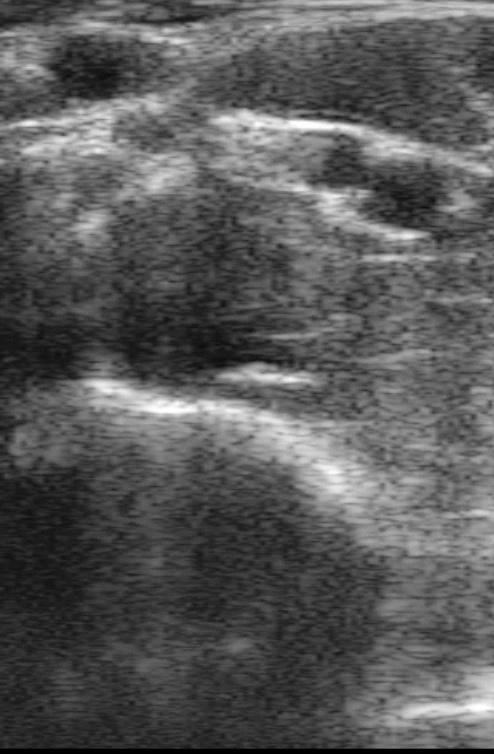veins_detect: (35, 28, 174, 109), (353, 155, 461, 243)
veins_seg: (48, 29, 447, 229)
